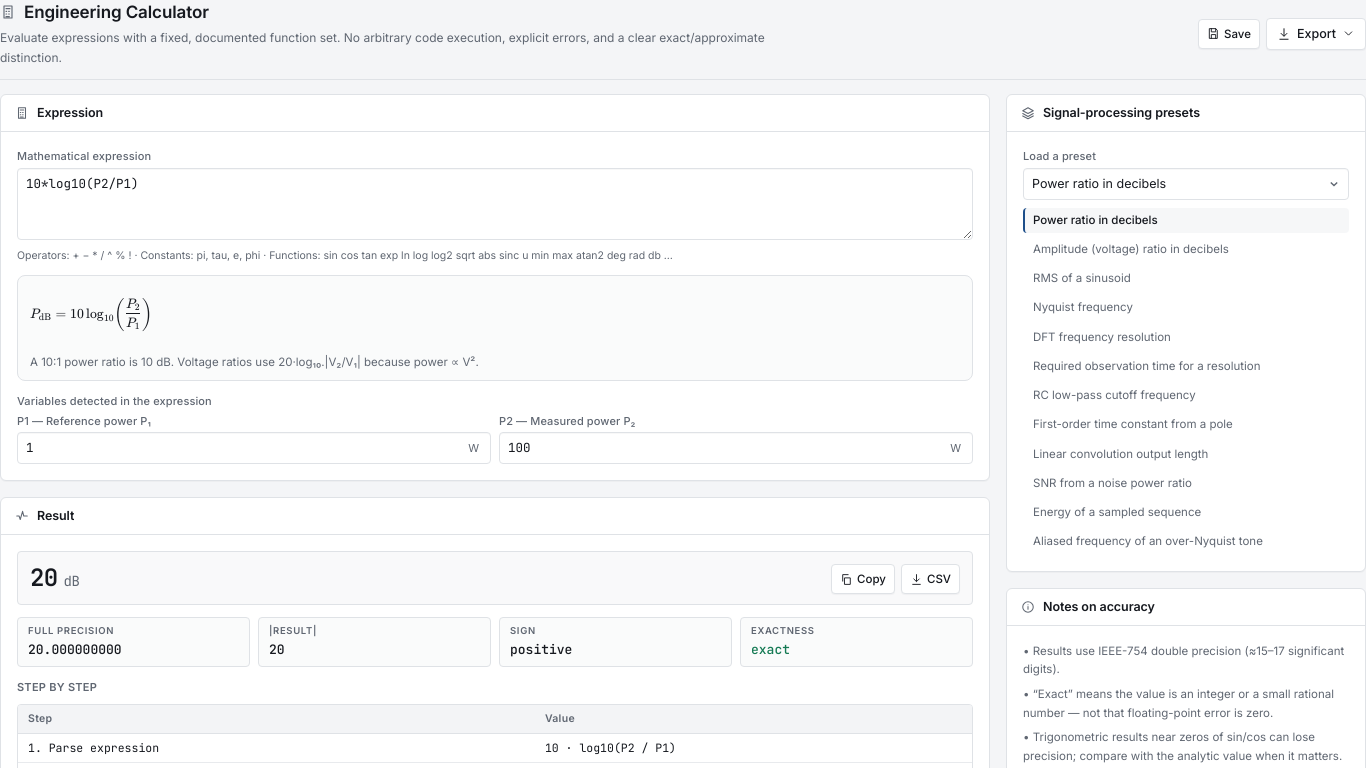
Test: calculator module › evaluates the default preset to 20 dB and switches to a division-by-zero error
The image size is (1366, 768).
expect the text "20" is shown: met, box [30, 562, 58, 593]
expect the 1st text "dB" is shown: met, box [39, 311, 51, 323]
In the text box labelled "Mathematical expression": (495, 204) [17, 168, 973, 240], type "1/0"
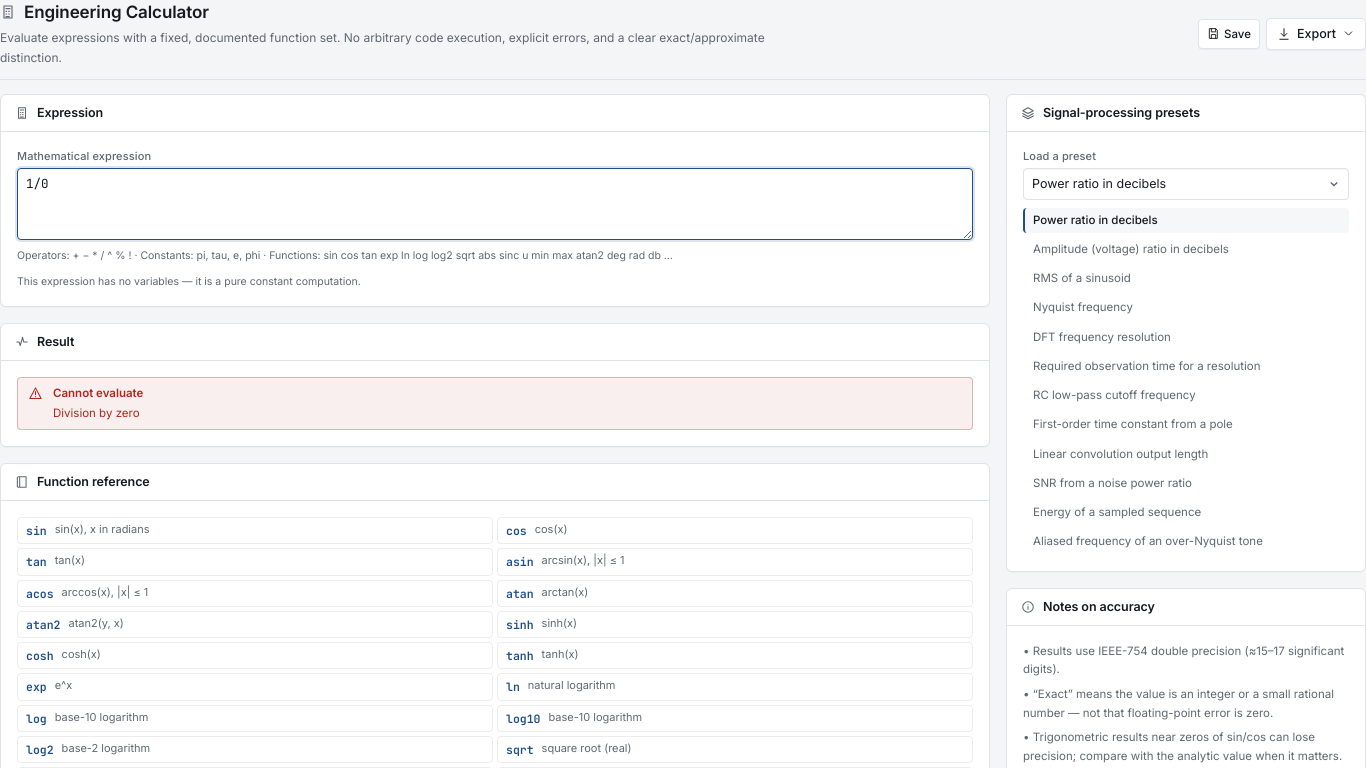
expect the text "Cannot evaluate" is shown: met, box [53, 384, 143, 402]
expect the text "Cannot evaluate Division by zero" is shown: met, box [53, 384, 143, 423]
